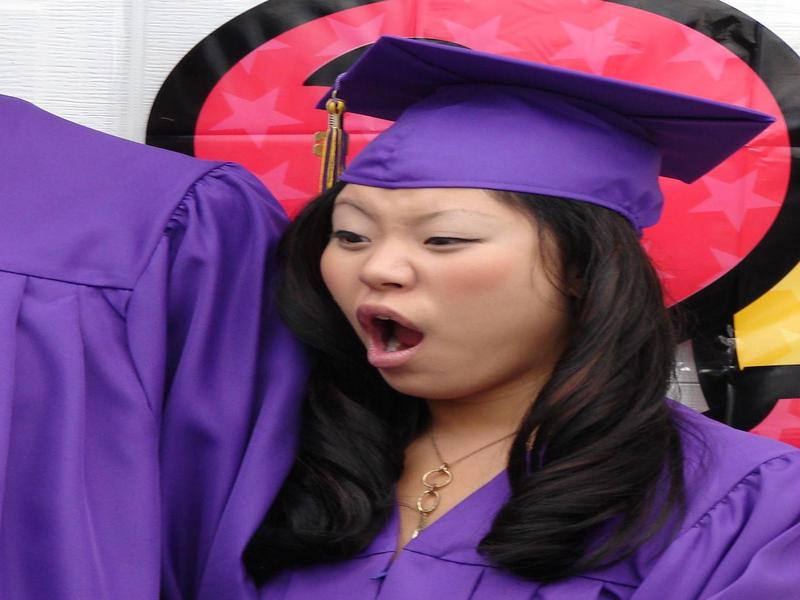person: (257, 35, 800, 600)
